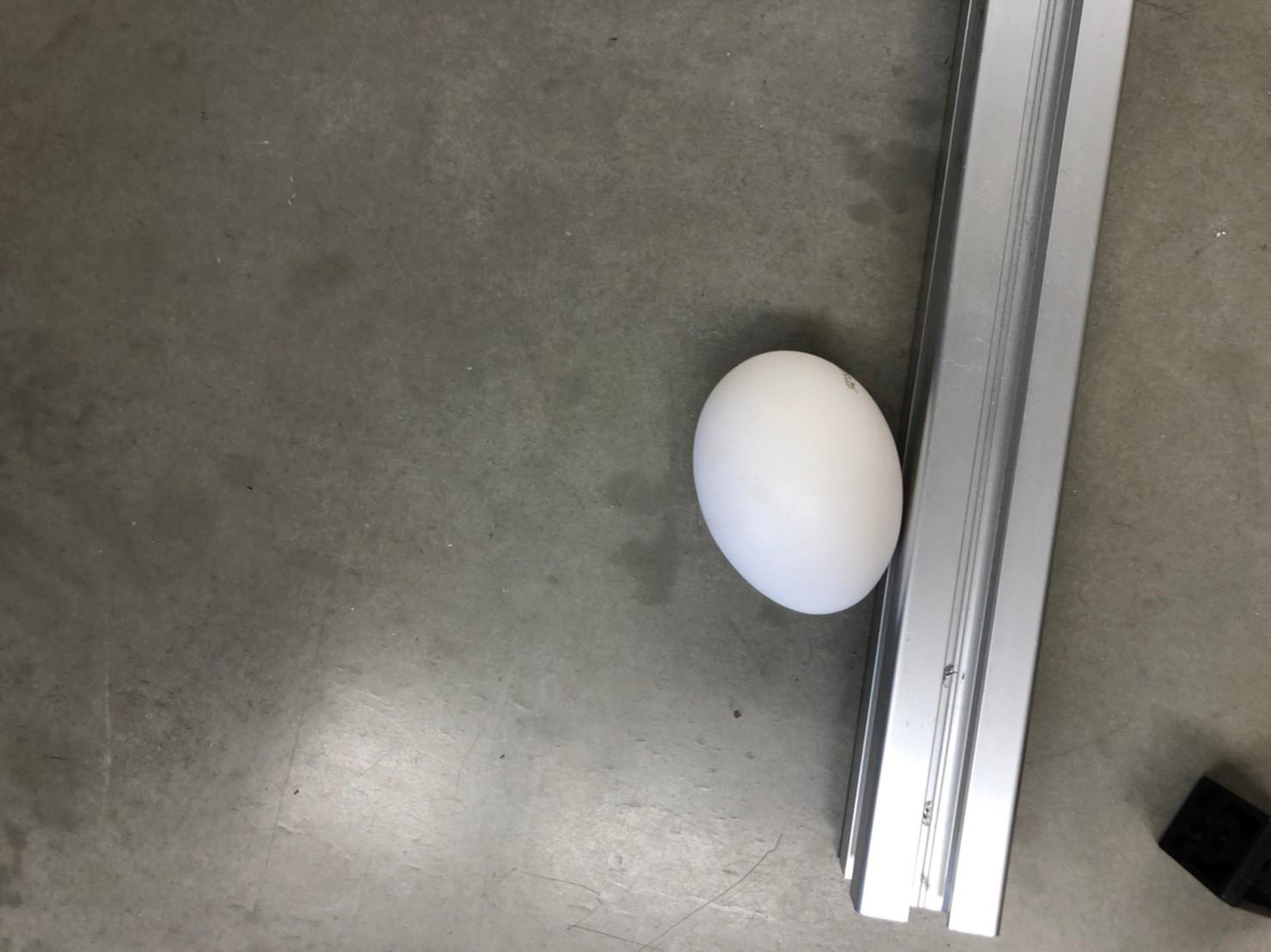egg: (689, 347, 907, 621)
